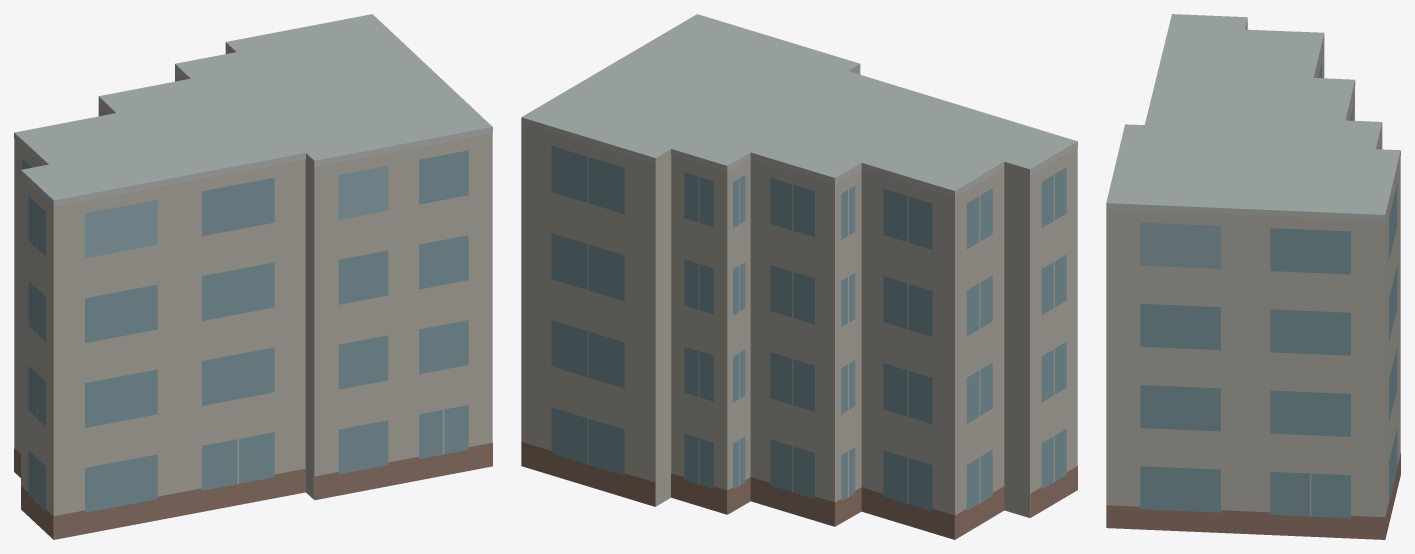
Rendered from survey-upis-33004644.glb.
3 renders of one model, left to right at view 1: azimuth 30°, elevation 25°; view 2: azimuth 150°, elevation 25°; view 3: azimuth 270°, elevation 25°, orthographic. The views are drawn at different scales.
Visible parts, largest first — view 1: survey-upis-33004644.tmp; view 2: survey-upis-33004644.tmp; view 3: survey-upis-33004644.tmp.
Part boxes in pixels (x1,y1,x2,y2): survey-upis-33004644.tmp: (14, 14, 492, 539); survey-upis-33004644.tmp: (521, 14, 1077, 539); survey-upis-33004644.tmp: (1106, 14, 1400, 539).
Bounding box in the file's own units: 17.58 × 13.25 × 10.9.
